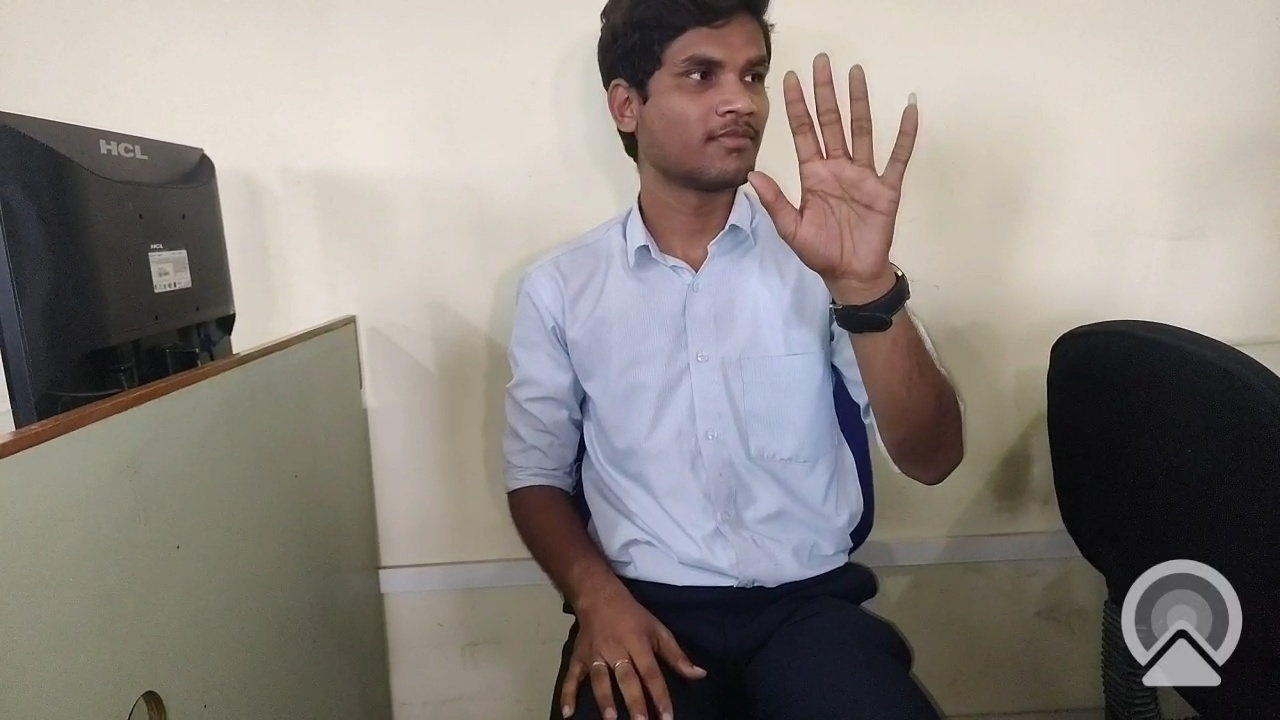Hello: (736, 50, 944, 303)
